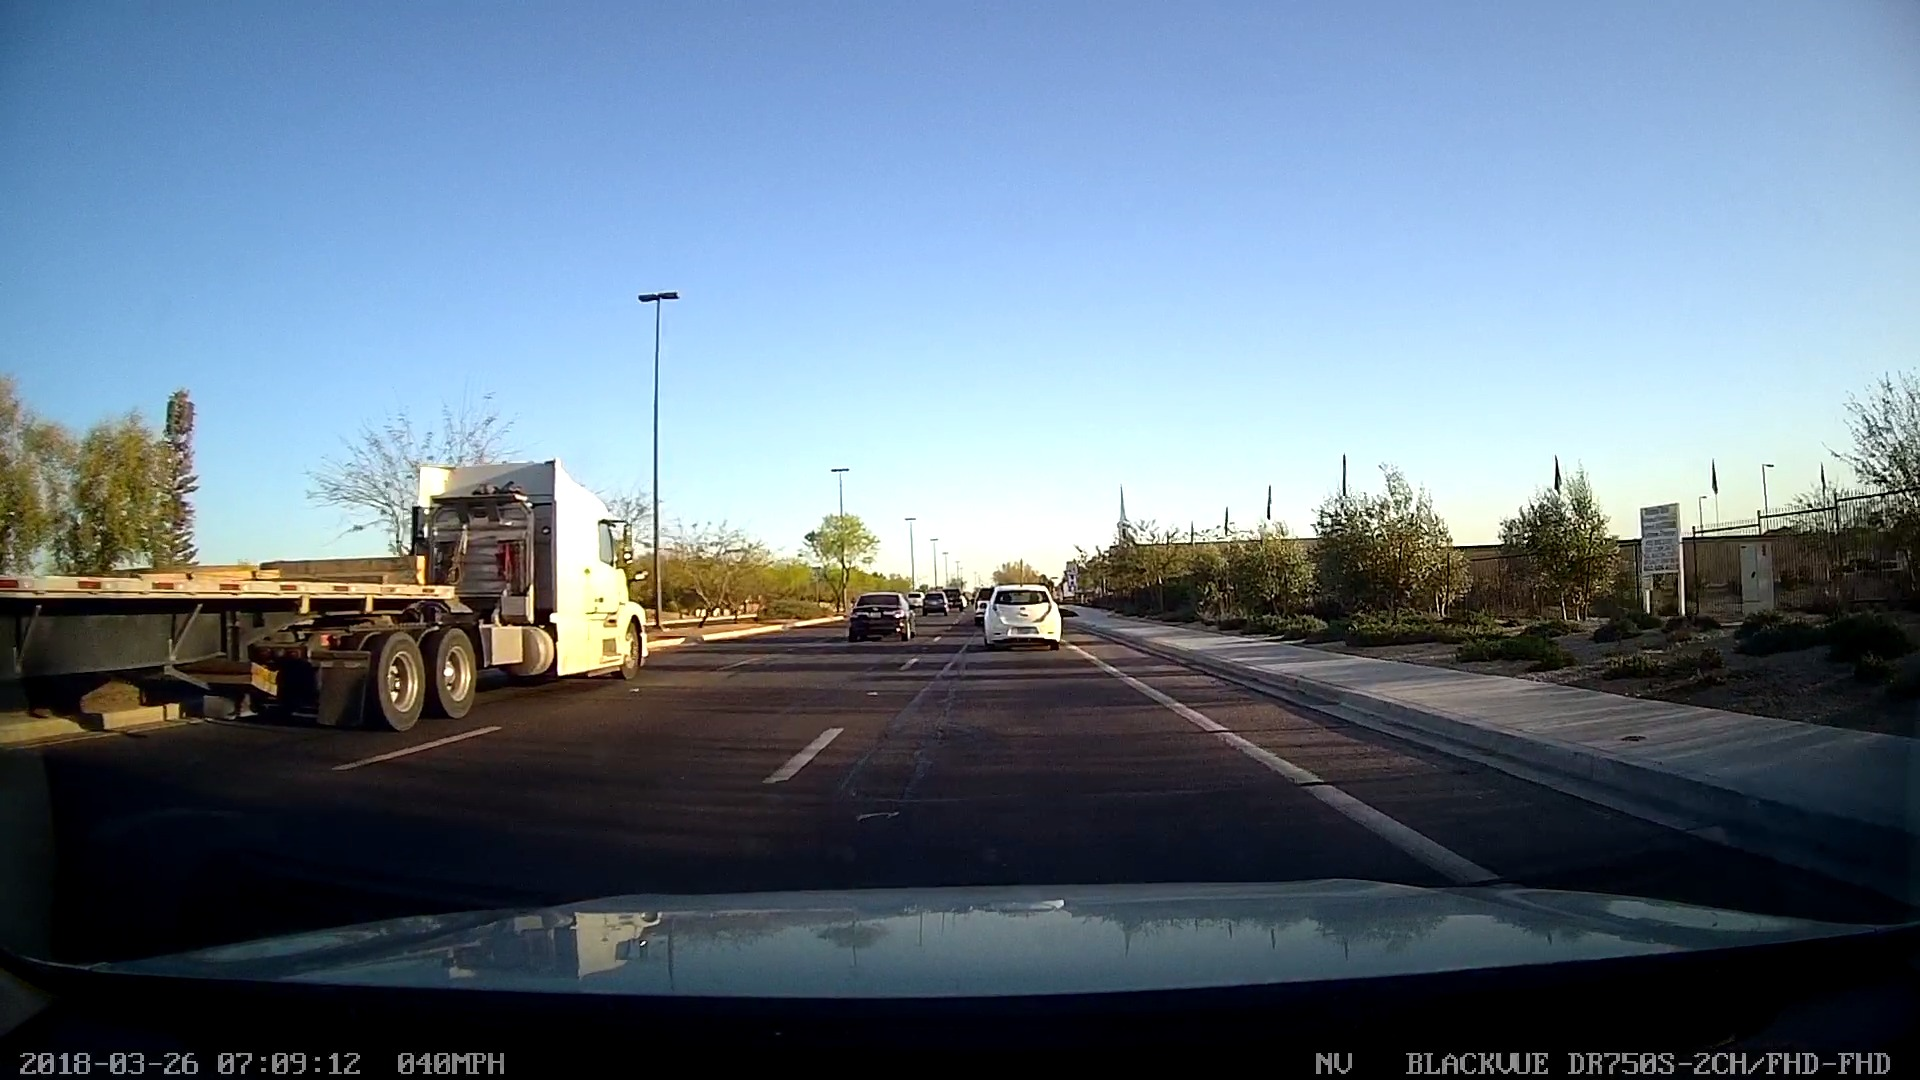vehicle: (0, 439, 654, 753), (971, 570, 1081, 659), (829, 576, 934, 658)
